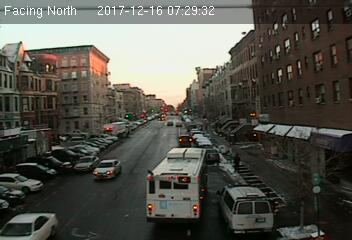bus: (147, 147, 208, 222)
car: (2, 210, 58, 240), (91, 160, 121, 180), (73, 156, 96, 171), (179, 134, 191, 144)
police: (214, 183, 275, 235)
